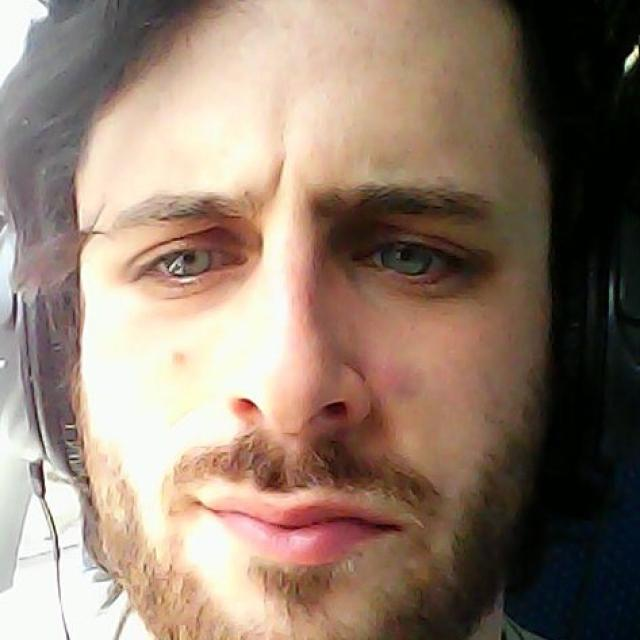Depress: (63, 0, 547, 639)
